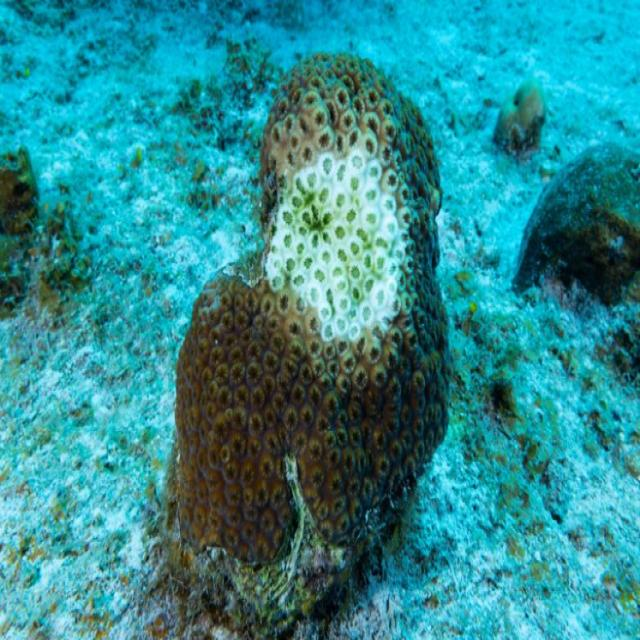Coral: (175, 54, 453, 587)
